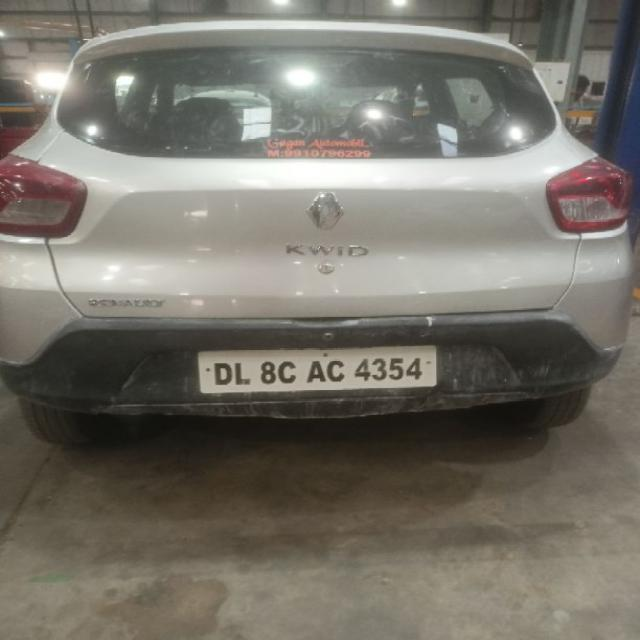license_plate: (195, 344, 439, 394)
